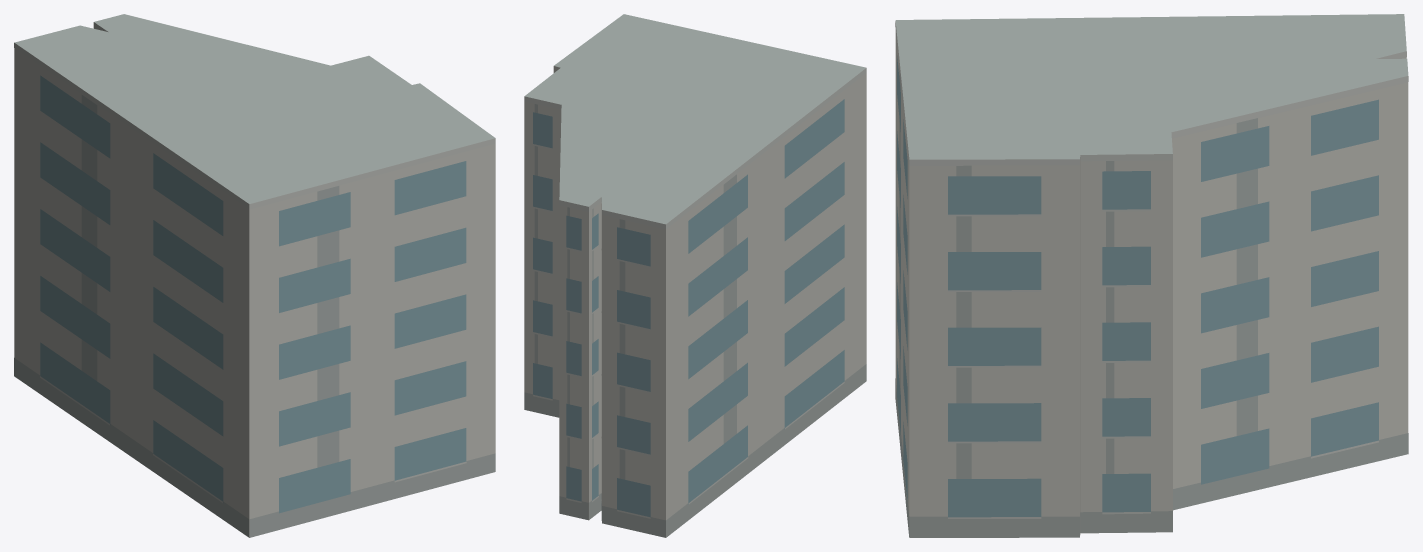
The model's file is survey-upis-32939990.glb.
The picture shows the model from 3 angles, left to right: view 1: azimuth 30°, elevation 25°; view 2: azimuth 150°, elevation 25°; view 3: azimuth 270°, elevation 25°; orthographic projection. The views are drawn at different scales.
Visible parts, largest first — view 1: survey-upis-32939990.tmp; view 2: survey-upis-32939990.tmp; view 3: survey-upis-32939990.tmp.
Part boxes in pixels (x1,y1,x2,y2): survey-upis-32939990.tmp: (14, 14, 495, 537); survey-upis-32939990.tmp: (524, 14, 866, 537); survey-upis-32939990.tmp: (895, 14, 1408, 537).
Size of the model in its own units: 12.11 by 14.65 by 18.01.
